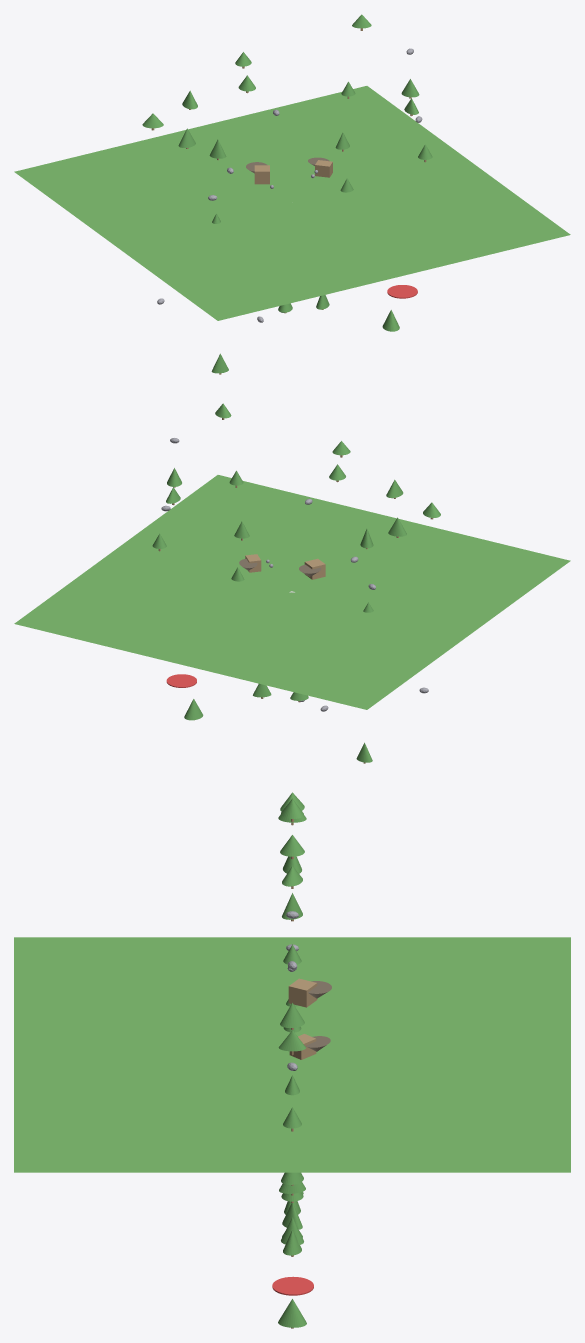
The model's file is forest_village.glb.
3 views of the same model, one above another, from view 1: azimuth 30°, elevation 25°; view 2: azimuth 150°, elevation 25°; view 3: azimuth 270°, elevation 25° (orthographic). The views are drawn at different scales.
Parts seen in each view (by area): view 1: Ground_Terrain; view 2: Ground_Terrain; view 3: Ground_Terrain.
Part boxes in pixels (bbox=[...]): Ground_Terrain: bbox=[14, 86, 570, 320]; Ground_Terrain: bbox=[14, 475, 570, 709]; Ground_Terrain: bbox=[14, 937, 570, 1172].
Size of the model in its own units: 80 by 70.51 by 80.
